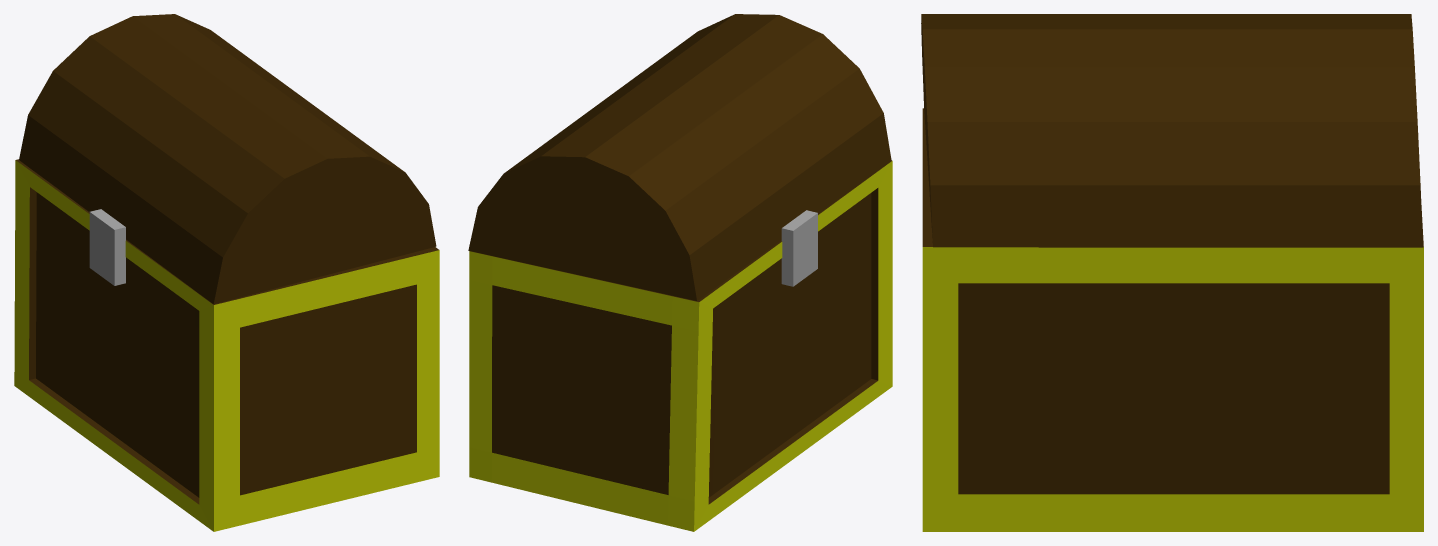
File: bau.fbx
3 views of the same model, side by side, from view 1: azimuth 30°, elevation 25°; view 2: azimuth 150°, elevation 25°; view 3: azimuth 270°, elevation 25° (orthographic). The views are drawn at different scales.
Parts seen in each view (by area): view 1: Cube.001; view 2: Cube.001; view 3: Cube.001.
Part boxes in pixels (left/top/right/bottom): Cube.001: left=14, top=14, right=439, bottom=531; Cube.001: left=468, top=14, right=892, bottom=531; Cube.001: left=921, top=14, right=1423, bottom=531.
Bounding box in the file's own units: 2.71 × 3.74 × 3.92.
